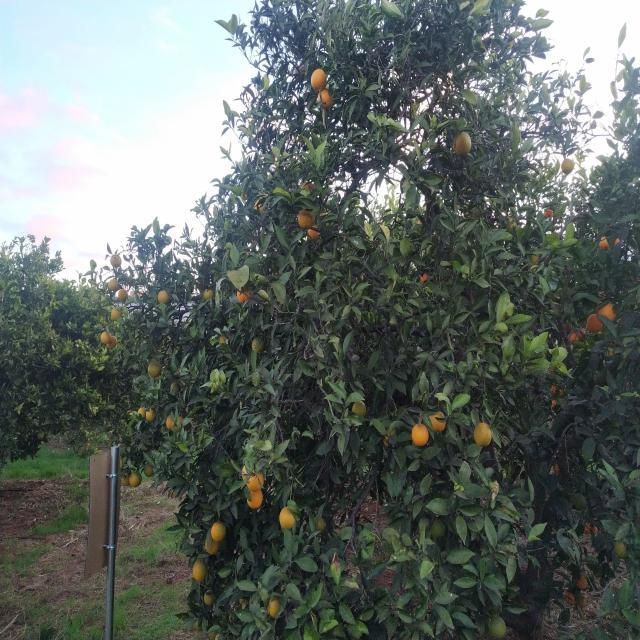Jeruk Belum Matang: (453, 132, 471, 156), (490, 616, 506, 639), (297, 209, 315, 229), (430, 519, 446, 538), (193, 562, 208, 581), (267, 597, 280, 617), (352, 401, 367, 417), (560, 158, 574, 175), (148, 362, 161, 377), (615, 540, 627, 556), (130, 472, 142, 488), (252, 336, 264, 352), (314, 517, 326, 532), (204, 590, 214, 608), (144, 462, 154, 477), (308, 228, 319, 240), (170, 382, 181, 392), (204, 290, 214, 300), (122, 476, 130, 486), (218, 336, 226, 344)
Jeruk Sudah Matang: (474, 422, 492, 448), (279, 506, 296, 530), (596, 304, 616, 324), (412, 424, 429, 446), (428, 412, 446, 432), (311, 68, 326, 91), (247, 471, 264, 491), (211, 520, 226, 542), (247, 490, 263, 510), (586, 314, 602, 333), (237, 287, 252, 305), (318, 90, 334, 106), (110, 306, 124, 322), (598, 236, 610, 250), (100, 330, 112, 344), (301, 182, 315, 194), (158, 290, 169, 305), (110, 255, 122, 268), (254, 200, 265, 213), (146, 409, 156, 422), (166, 414, 174, 430), (106, 336, 116, 348), (118, 288, 128, 300), (109, 278, 118, 290), (544, 208, 554, 218), (242, 466, 248, 482), (138, 407, 146, 418)
